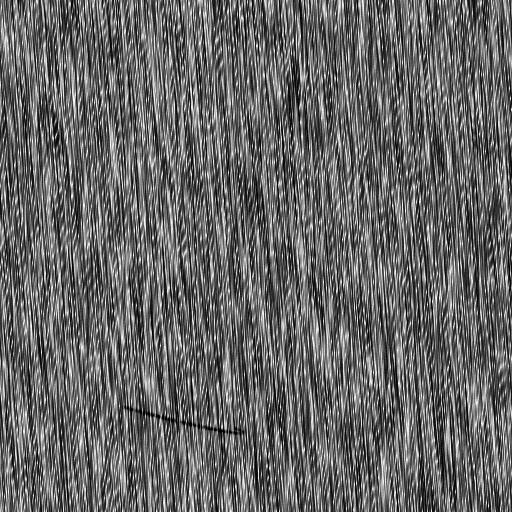DefectTypeC: (120, 403, 250, 437)
